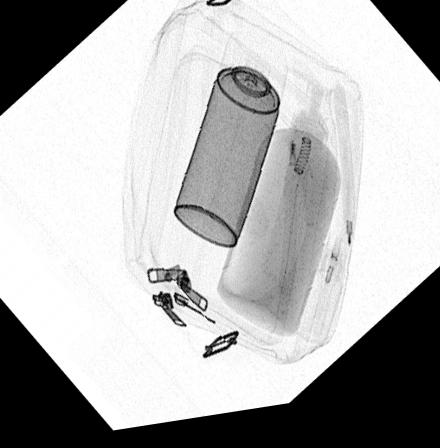Sprayer: (170, 35, 291, 256)
